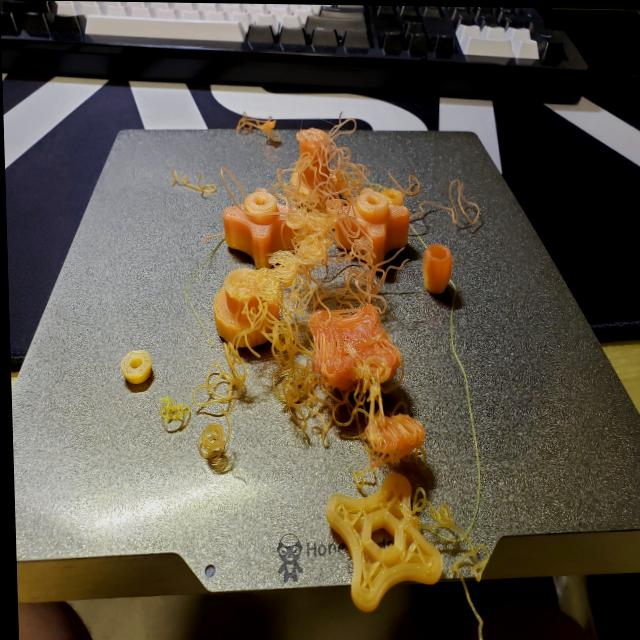spaghetti: (248, 169, 348, 458), (345, 150, 409, 310), (399, 487, 496, 581), (420, 171, 488, 233), (195, 331, 245, 412), (163, 156, 223, 216), (224, 96, 284, 154), (300, 110, 368, 159), (146, 381, 192, 435), (195, 425, 234, 466)
